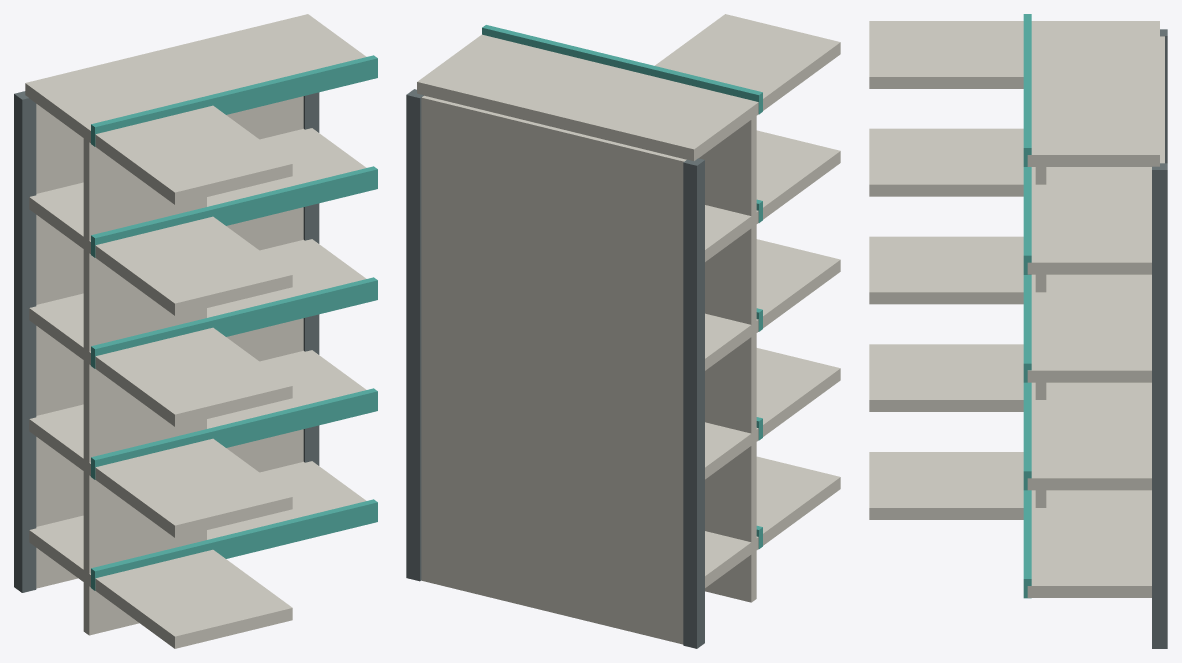
File: supermarket-operations-corner-shelf-a1cb9e23__26742.glb
3 renders of one model, left to right at view 1: azimuth 30°, elevation 25°; view 2: azimuth 150°, elevation 25°; view 3: azimuth 270°, elevation 25°, orthographic. The views are drawn at different scales.
Visible parts, largest first — view 1: corner-shelf; view 2: corner-shelf; view 3: corner-shelf.
Boxes of the visible parts, x1,y1,x2,y2 form: corner-shelf: (14, 14, 377, 648); corner-shelf: (406, 14, 840, 648); corner-shelf: (869, 14, 1167, 648).
Bounding box in the file's own units: 1.26 × 2.08 × 1.13.
